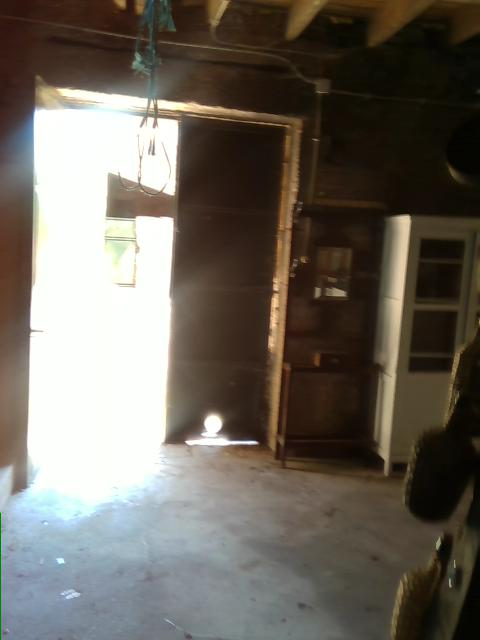open_door: (24, 85, 179, 443)
